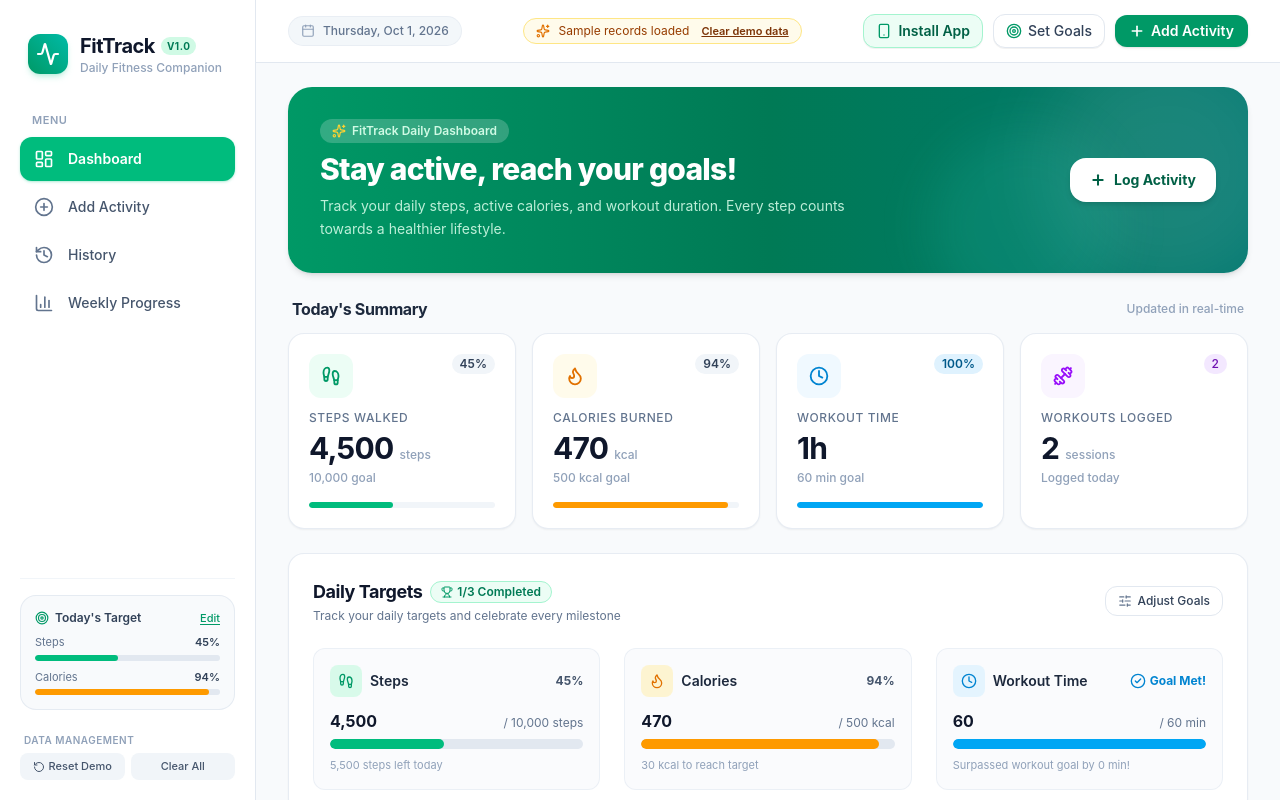
FitTrack App - Complete User Flow › displays friendly empty state when all data is cleared
This screenshot has width=1280, height=800.
Click "Clear All" in sidebar
What coordinates should you click on to do the following:
click the button "Clear All"
I would click on:
 (183, 767)
Its box is [130,753,235,780].
(page scrolled)
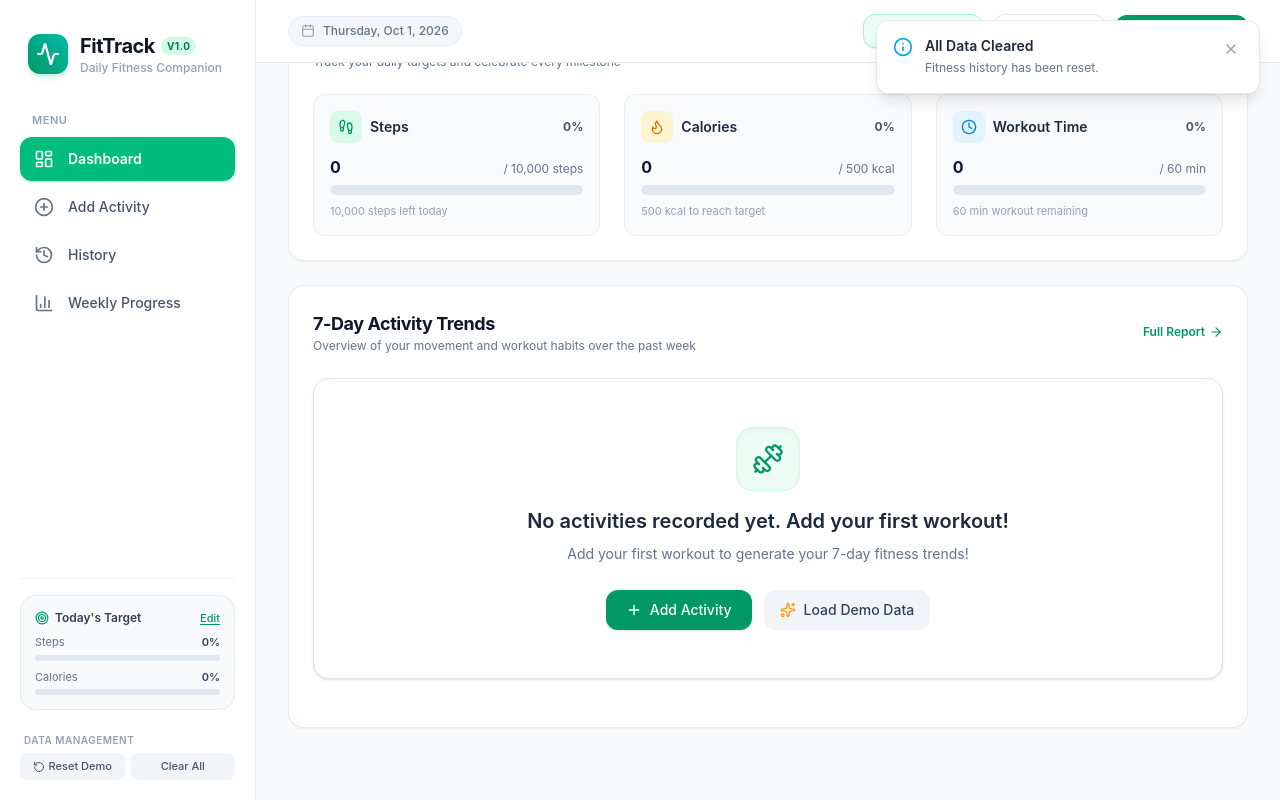
expect the heading "No activities recorded yet. Add your first workout!" is shown: met, box [527,507,1009,535]
Click "Load Demo Data"
What coordinates should you click on to do the following:
click the button "Load Demo Data"
I would click on:
 (847, 610)
Its box is [764,590,930,630].
(page scrolled)
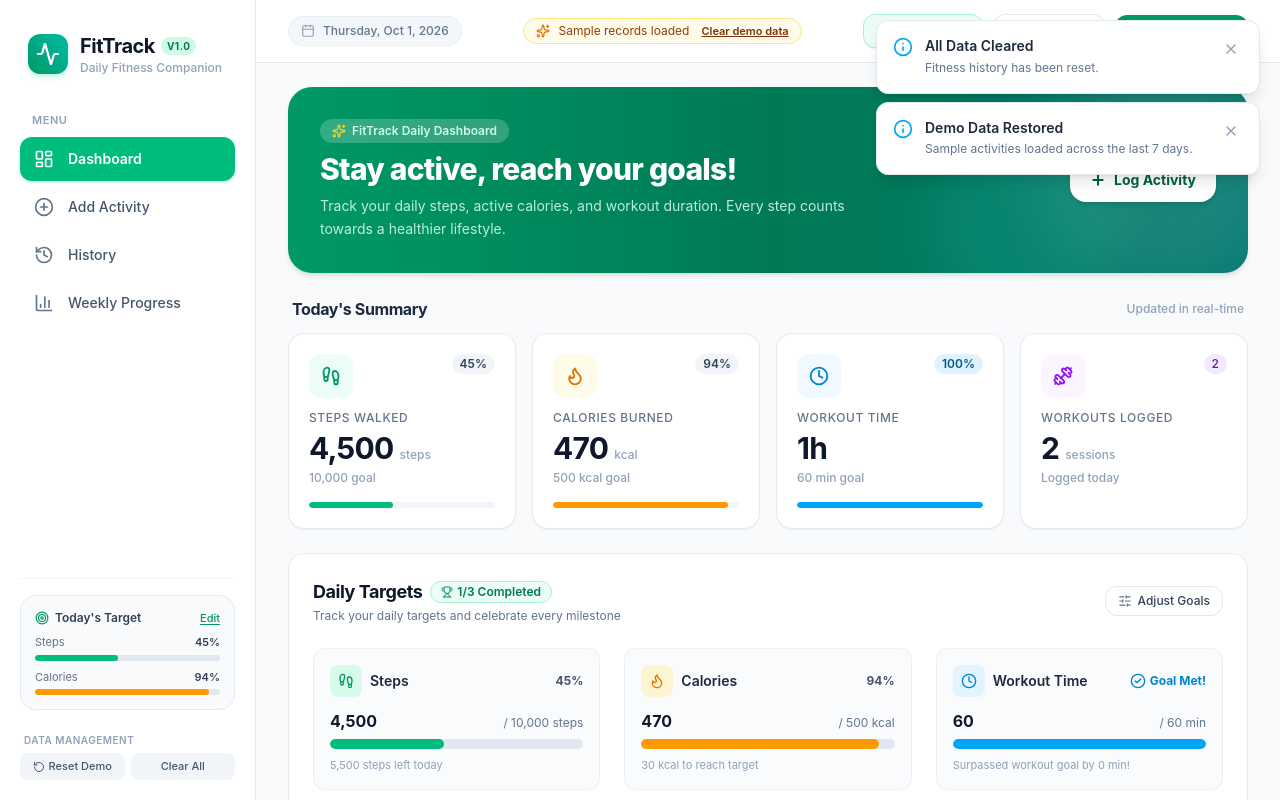
expect the heading "Stay active, reach your goals!" is shown: met, box [320,151,736,187]
expect the heading "Demo Data Restored" is shown: met, box [925,118,1063,136]
